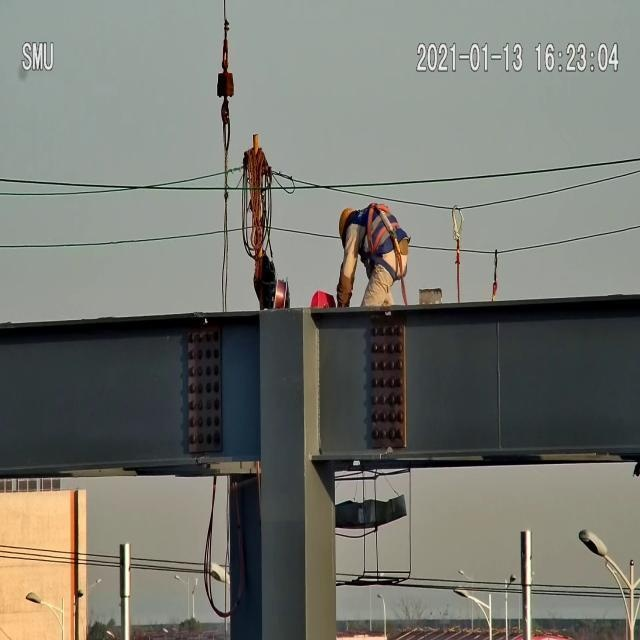Arnes_seguridad: (351, 201, 406, 261)
